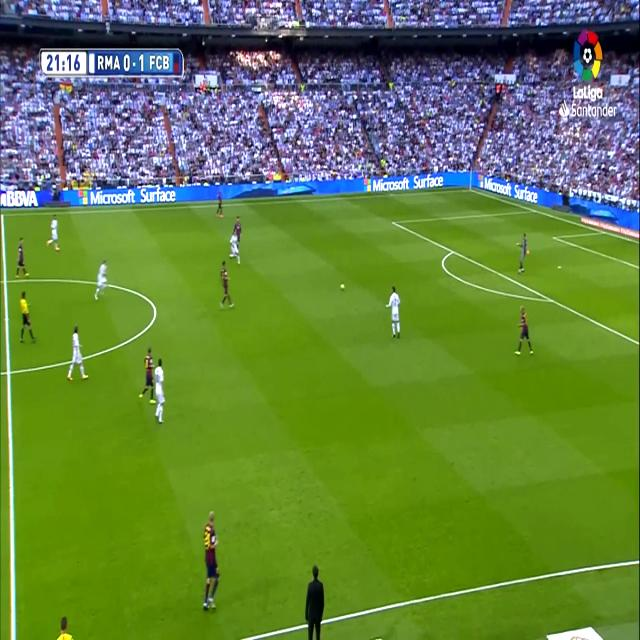bigarea_bottom_inner: (383, 294, 391, 316)
corner: (466, 184, 474, 194)
halfcircle_bottom: (3, 357, 15, 386)
halfcircle_top: (0, 268, 10, 291)
top_arc_area_intersection: (449, 243, 456, 257)
